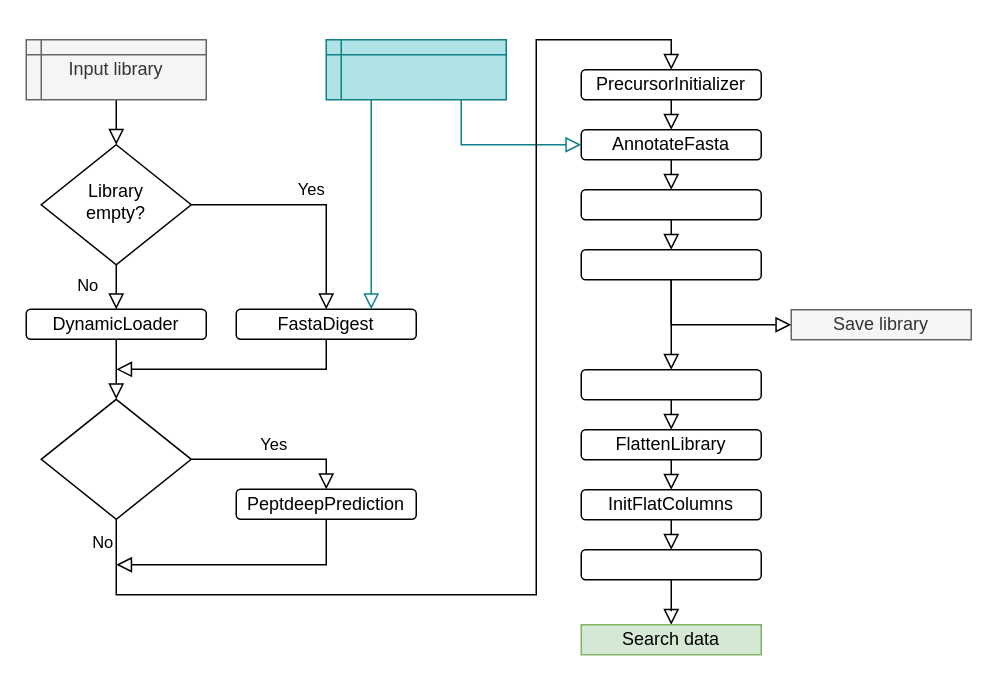
Image size: 998x681. Some labels were removed from this diagram. The centre of each missing label's shape, as x and y in pixels:
DecoyGenerator: point (670, 384)
FASTA list: point (415, 69)
IsotopeGenerator: point (670, 204)
LogFlatLibraryStats: point (670, 564)
Predict properties?: point (115, 458)
RTNormalization: point (670, 264)
